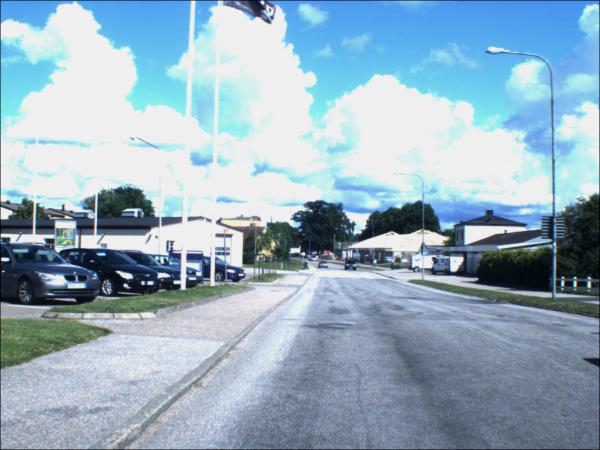PRIORITY_ROAD: (301, 253, 306, 258), (302, 253, 306, 257)
